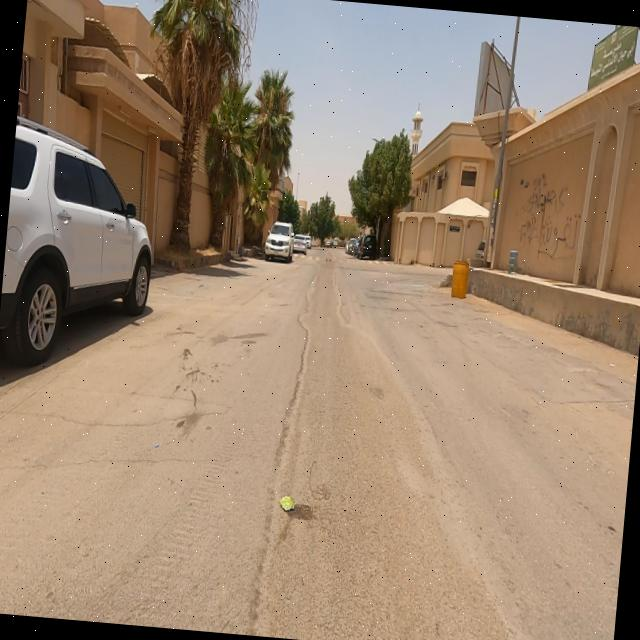Graffiti: (520, 172, 586, 262)
